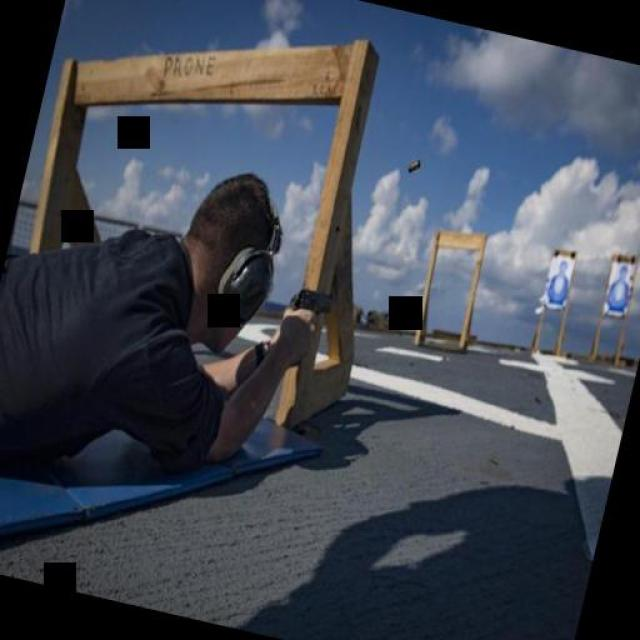gun: (284, 276, 338, 328)
